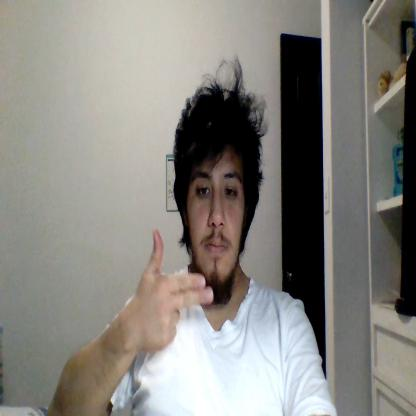H: (136, 230, 214, 352)
